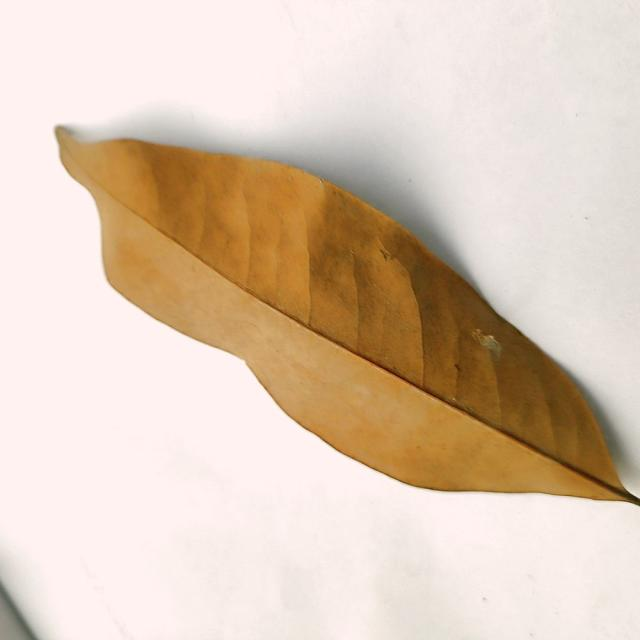Dry_Leaf-Lychee: (54, 127, 639, 506)
